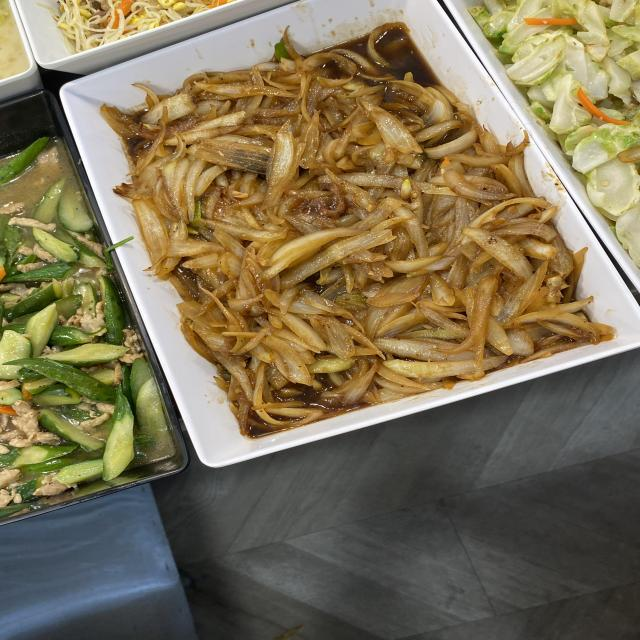Fried onions: (207, 133, 478, 344)
